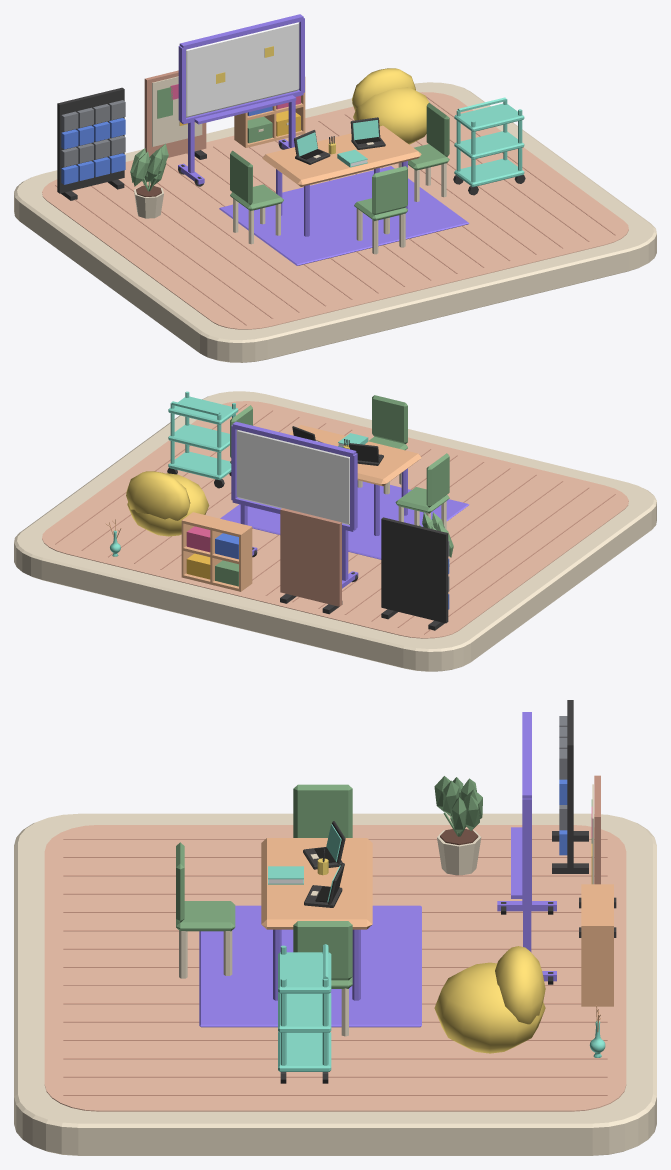
File: room.fbx
3 views of the same model, one above another, from view 1: azimuth 30°, elevation 25°; view 2: azimuth 150°, elevation 25°; view 3: azimuth 270°, elevation 25° (orthographic). The views are drawn at different scales.
Visible parts, largest first — view 1: COM-02 Floor Surface, COM-01 Rounded Base Direct, Rug, Writing surface, Rounded table top, Beanbag shell, Panel, Pot, Backrest.002, Canvas, Panel.001, Back bolster (+12 smaller); view 2: COM-02 Floor Surface, COM-01 Rounded Base Direct, Writing surface, Panel, Panel.001, Rug, Back bolster, Rounded table top, Beanbag shell, Backrest.002, Tray, Tray.001 (+14 smaller); view 3: COM-02 Floor Surface, COM-01 Rounded Base Direct, Rug, Rounded table top, Beanbag shell, Pot, Backrest, Back bolster, Cubbies divider.002, Backrest.001, Tray.002, Tray.001 (+13 smaller).
Boxes of the visible parts, x1,y1,x2,y2 form: COM-02 Floor Surface: (42, 92, 628, 329); COM-01 Rounded Base Direct: (14, 82, 656, 362); Rug: (219, 166, 469, 265); Writing surface: (186, 22, 299, 117); Rounded table top: (262, 125, 421, 186); Beanbag shell: (353, 87, 429, 144); Panel: (57, 87, 124, 193); Pot: (130, 143, 168, 218); Backrest.002: (372, 166, 407, 215); Canvas: (152, 76, 202, 146); Panel.001: (144, 70, 206, 157); Back bolster: (352, 68, 415, 110); COM-02 Floor Surface: (42, 401, 628, 638); COM-01 Rounded Base Direct: (14, 391, 656, 671); Writing surface: (236, 429, 349, 525); Panel: (381, 517, 448, 623); Panel.001: (280, 508, 341, 606); Rug: (220, 481, 468, 559); Back bolster: (126, 471, 190, 520); Rounded table top: (288, 425, 421, 486); Beanbag shell: (127, 473, 209, 536); Backrest.002: (372, 395, 407, 443); Tray: (168, 451, 231, 480); Tray.001: (168, 424, 229, 452); COM-02 Floor Surface: (44, 825, 626, 1111); COM-01 Rounded Base Direct: (14, 813, 656, 1155); Rug: (199, 905, 421, 1027); Rounded table top: (261, 838, 372, 929); Beanbag shell: (434, 962, 545, 1053); Pot: (434, 776, 482, 875); Backrest: (293, 784, 352, 837); Back bolster: (495, 946, 545, 1024); Cubbies divider.002: (581, 925, 613, 1006); Backrest.001: (293, 921, 352, 980); Tray.002: (278, 952, 331, 993); Tray.001: (278, 992, 331, 1032).
Size of the model in its own units: 600 by 204 by 520.
